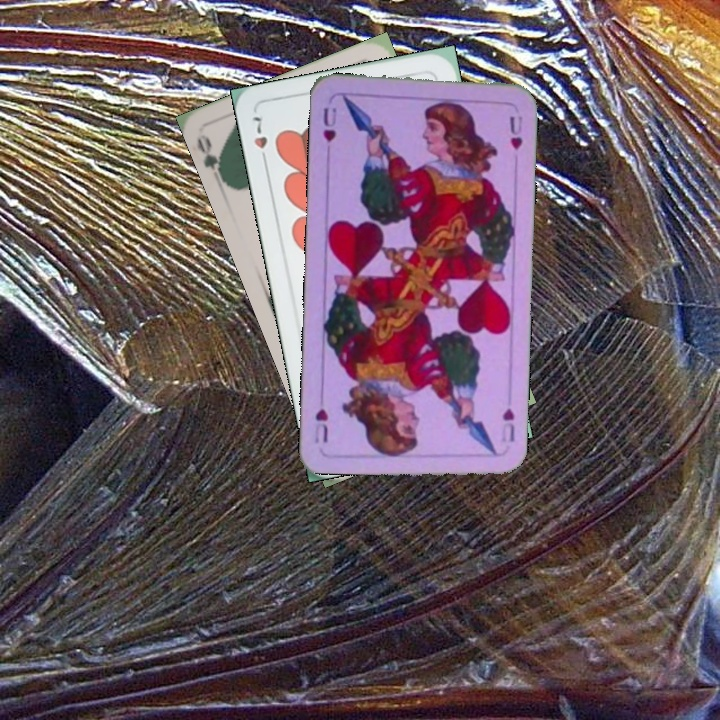GO: (193, 131, 230, 187)
H7: (249, 112, 271, 169)
HU: (496, 404, 517, 445), (319, 103, 339, 145)
